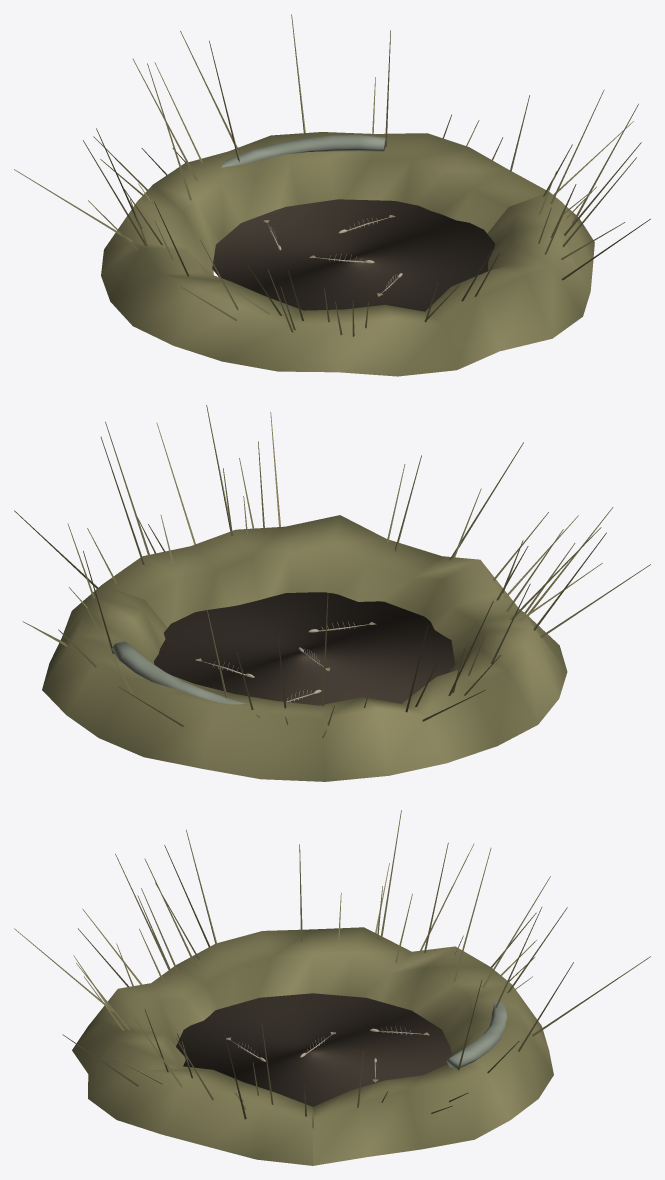
File: camp_naga_reed_nest.glb
3 renders of one model, top to bottom at view 1: azimuth 30°, elevation 25°; view 2: azimuth 150°, elevation 25°; view 3: azimuth 270°, elevation 25°, orthographic. The views are drawn at different scales.
Parts seen in each view (by area): view 1: camp_naga_reed_nest; view 2: camp_naga_reed_nest; view 3: camp_naga_reed_nest.
Part boxes in pixels (x1,y1,x2,y2): camp_naga_reed_nest: [14, 14, 650, 376]; camp_naga_reed_nest: [14, 405, 650, 781]; camp_naga_reed_nest: [14, 810, 650, 1165].
Size of what is drawn, in the model's own units: 3.13 by 0.9384 by 3.37.
